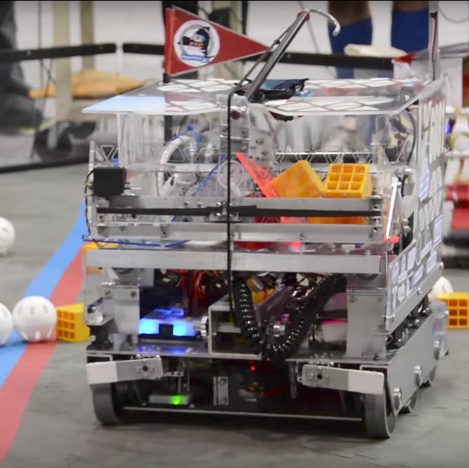robot: (76, 0, 454, 445)
